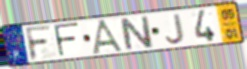4: (194, 8, 218, 43)
A: (91, 18, 128, 55)
F: (23, 24, 54, 62), (52, 21, 81, 59)
J: (165, 13, 186, 46)
N: (118, 15, 156, 52)
